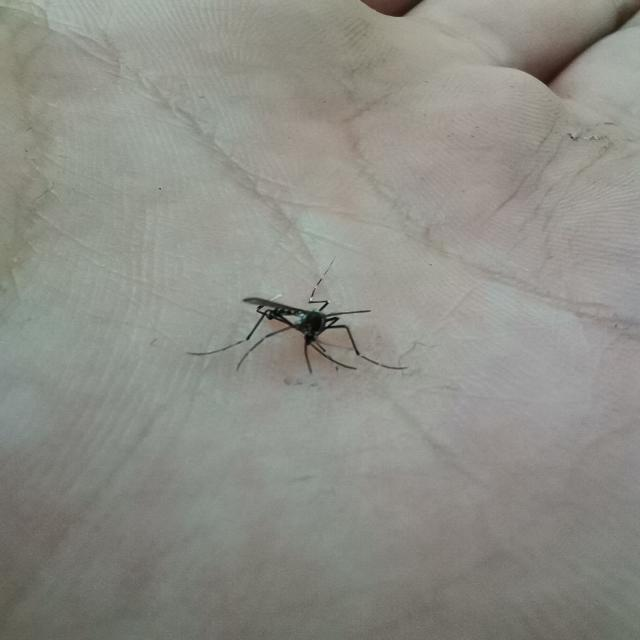albopictus: (191, 249, 414, 378)
